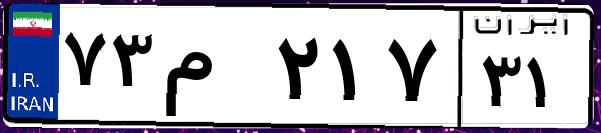1: (330, 28, 385, 110), (525, 38, 570, 115)
2: (270, 28, 330, 110)
3: (475, 38, 525, 113), (110, 28, 158, 98)
7: (385, 28, 445, 110), (57, 26, 110, 100)
م: (158, 20, 270, 120)
